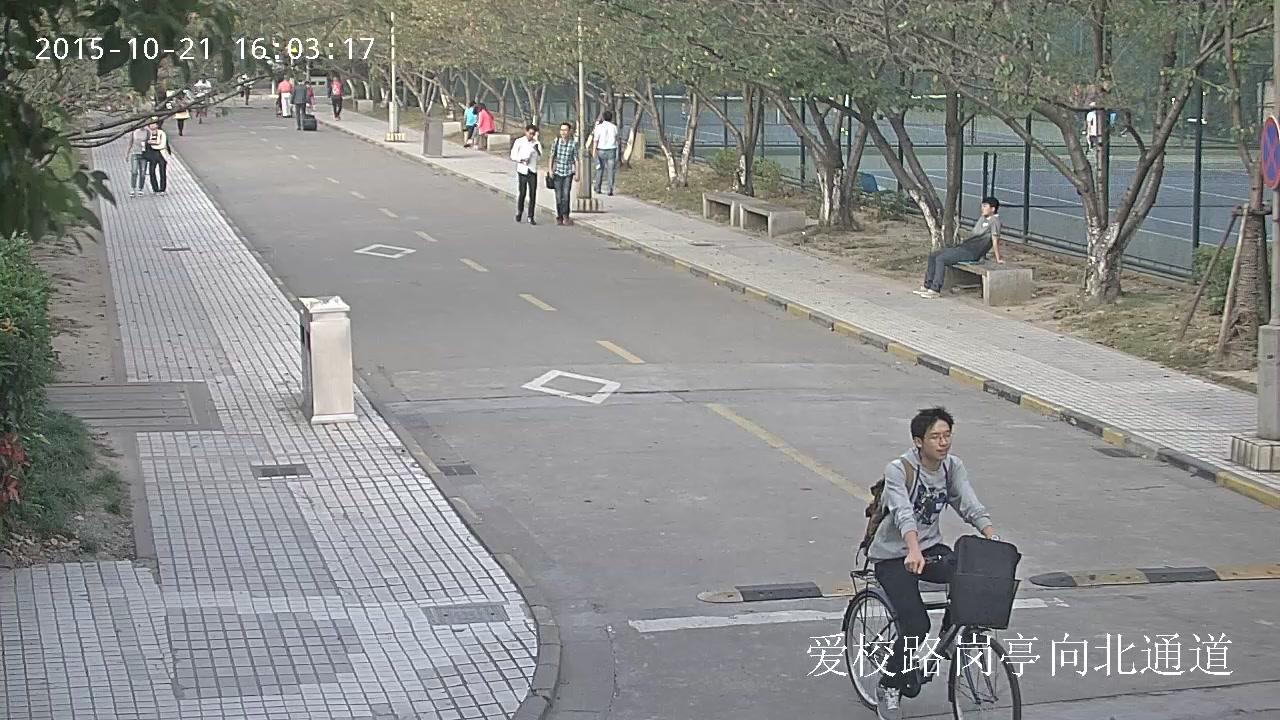face: (922, 419, 951, 459), (981, 202, 991, 214), (526, 128, 535, 139), (560, 123, 568, 135), (148, 123, 155, 128), (201, 74, 205, 82), (332, 75, 337, 80)
